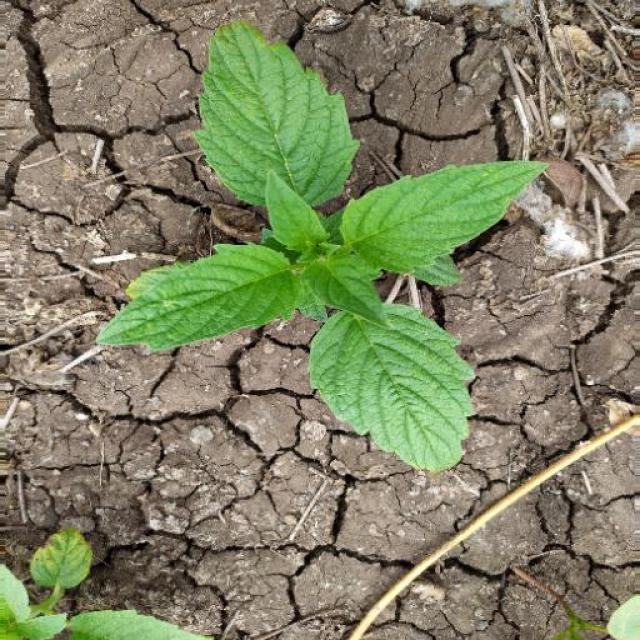crop: (59, 12, 556, 480)
